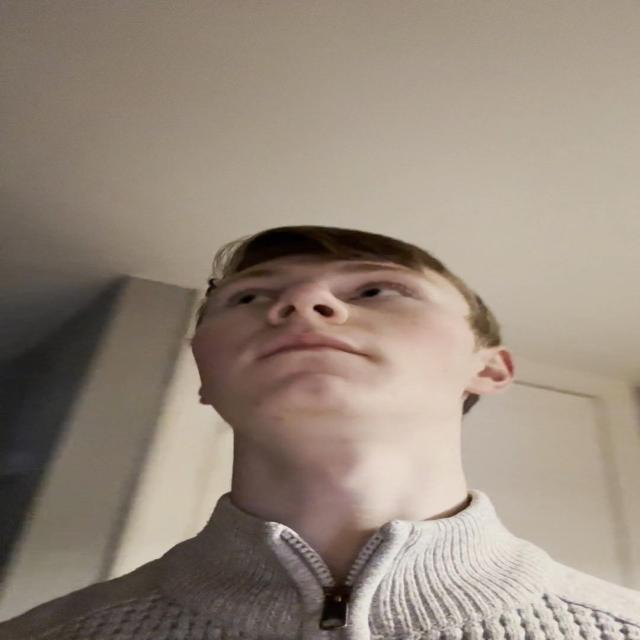no-helmet: (192, 253, 506, 486)
